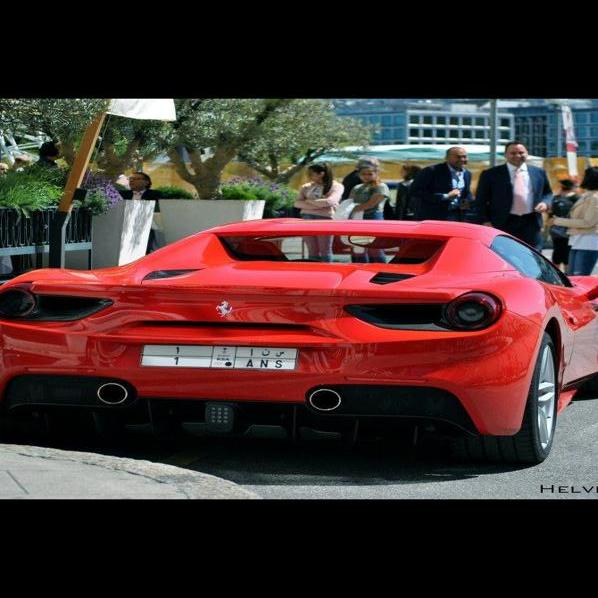numberplate: (139, 342, 298, 370)
